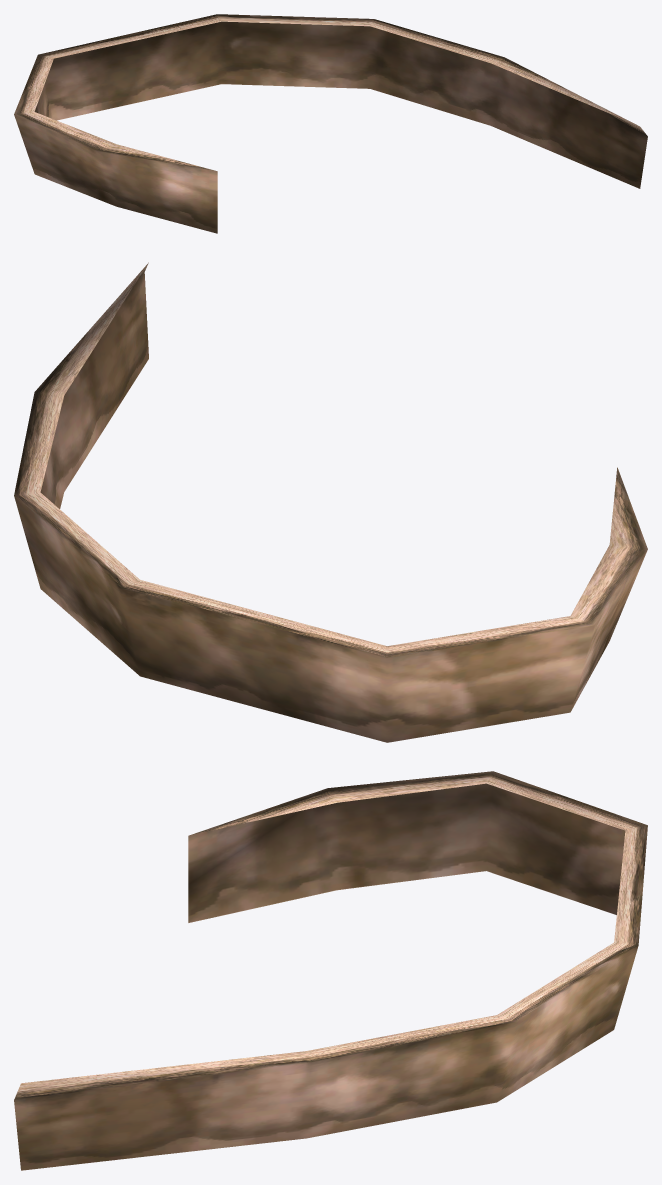
File: OVERHILL_A_01_LINE180.fbx
3 renders of one model, top to bottom at view 1: azimuth 30°, elevation 25°; view 2: azimuth 150°, elevation 25°; view 3: azimuth 270°, elevation 25°, orthographic. The views are drawn at different scales.
Visible parts, largest first — view 1: OVERHILL_A_01_LINE180; view 2: OVERHILL_A_01_LINE180; view 3: OVERHILL_A_01_LINE180.
Boxes of the visible parts, bbox=[...] form: OVERHILL_A_01_LINE180: bbox=[14, 14, 647, 233]; OVERHILL_A_01_LINE180: bbox=[14, 262, 647, 742]; OVERHILL_A_01_LINE180: bbox=[14, 771, 647, 1170].
Bounding box in the file's own units: 26702 × 3450 × 22663.
Materials: 1 (1 with a texture image).
